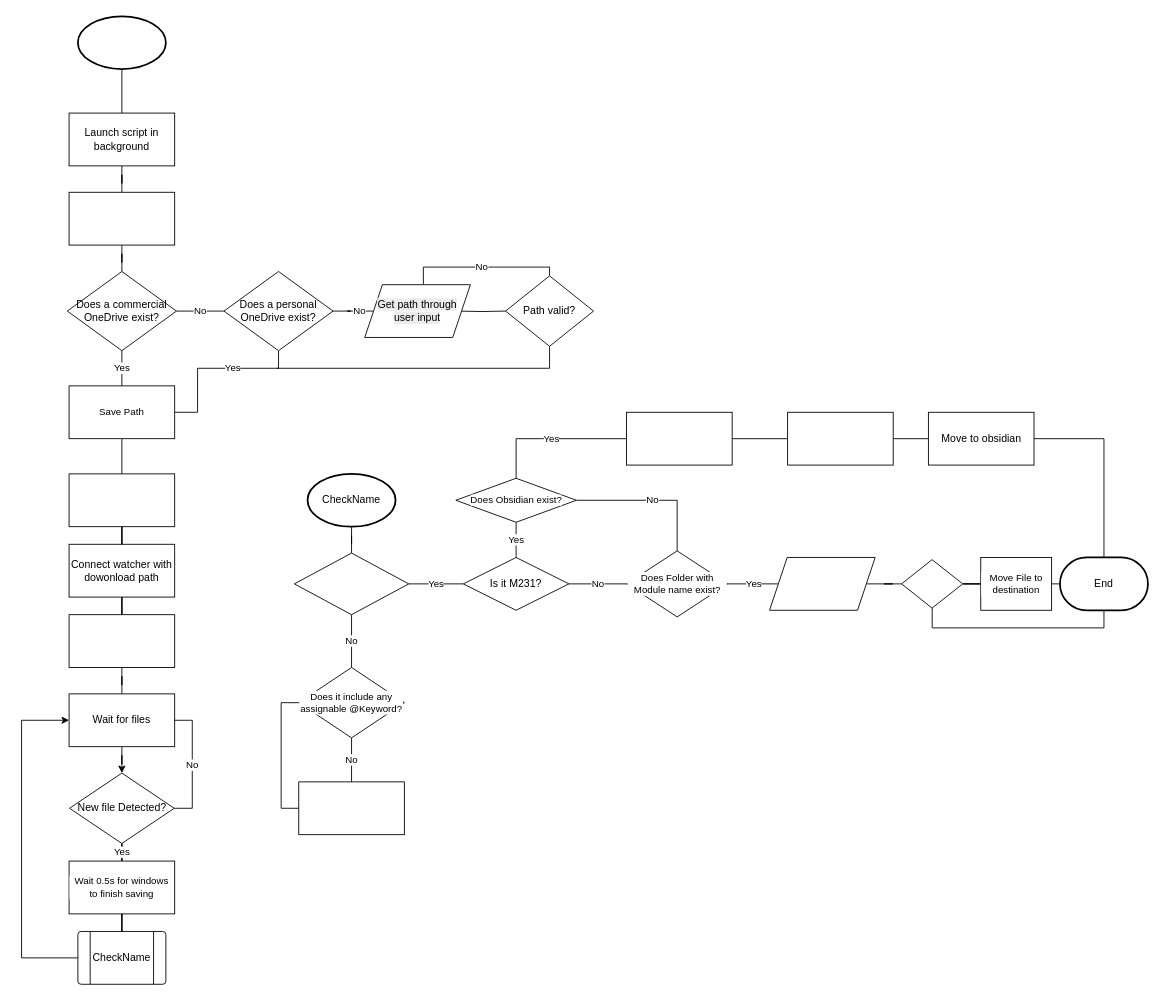
The diagram is 1164 pixels wide and 1000 high, and some of its shapes have lost their labels. The centre of each missing label's shape, as x and y in pixels:
"Allowed?" belongs at point 932,583.
"Ask for permission to create folder (Y/N)" belongs at point 822,583.
"Check inner File Content" belongs at point 351,808.
"Does any of name match M/d{3}?" belongs at point 351,583.
"Get download folder path through windows" belongs at point 121,218.
"Set destination to valid obsidian" belongs at point 679,438.
"Setup an observer with both Paths" belongs at point 121,500.
"Start" belongs at point 121,42.
"Start observer" belongs at point 121,640.
"Unzip file" belongs at point 840,438.
